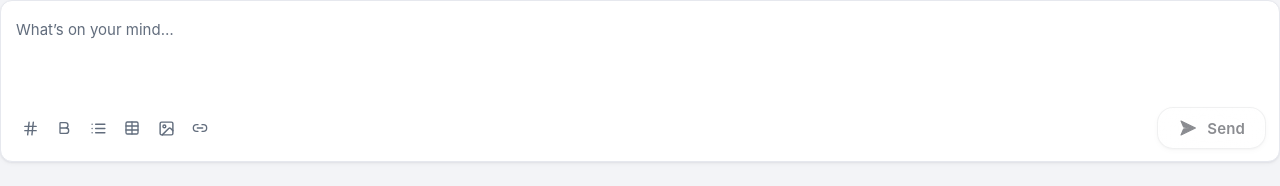
Test case: Editor tag suggestions follow the caret › completes the whole token under the caret, not just its head
In the dropdown named "Memo content": (640, 49) [14,15,1266,83], type "#rk"
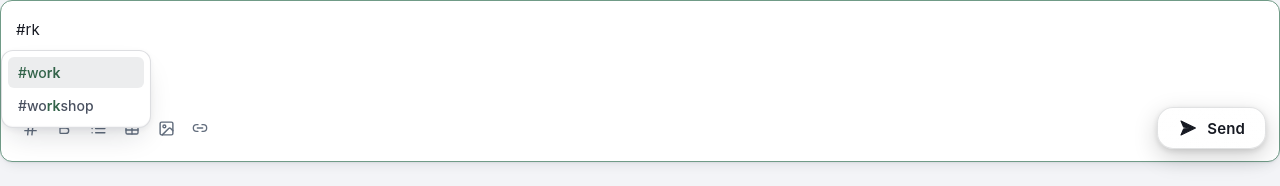
Type keys "{ArrowLeft>2/}wo"
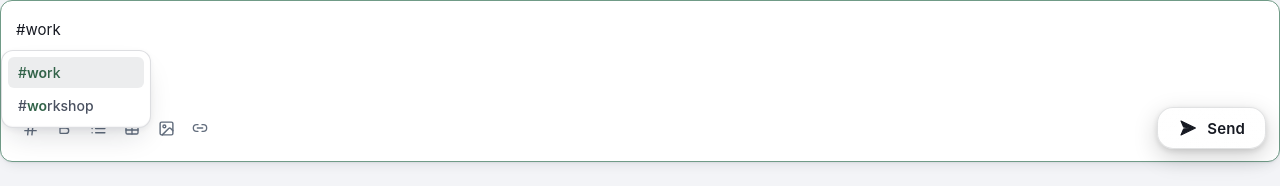
Expected: the options read "#work", "#workshop", in this order, [8,56,144,88]; [8,90,144,120]
Expected: the dropdown named "Memo content" holds "#work", [14,15,1266,83]
Press Enter
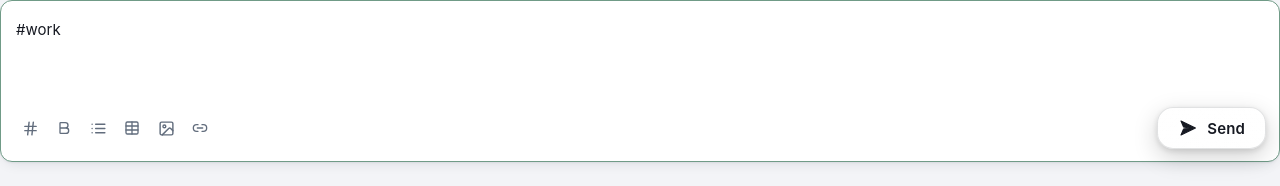
Expected: the dropdown named "Memo content" holds "#work ", [14,15,1266,83]
